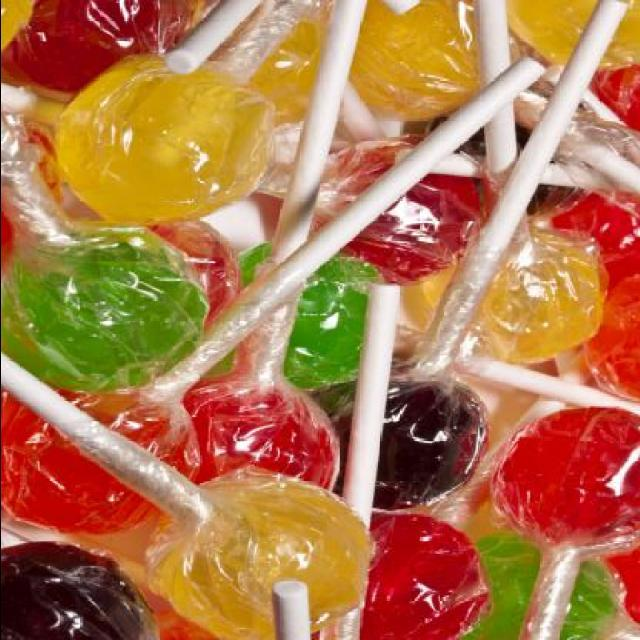Candy: (2, 0, 640, 606)
